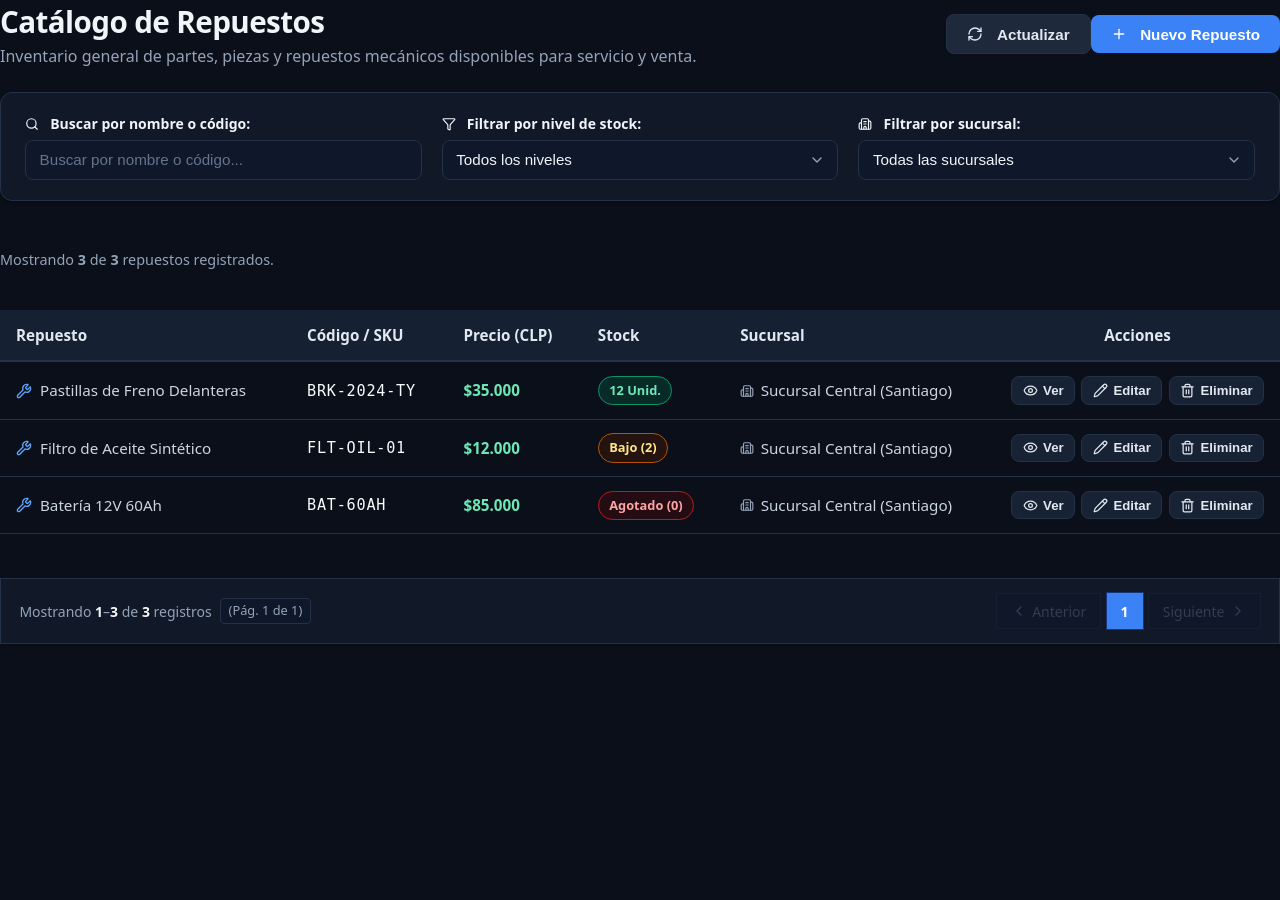
it: Módulo CRUD de Repuestos (RepuestosPage.tsx) › permite a un usuario Admin abrir el modal de edición y actualizar los datos
expect the text "Pastillas de Freno Delanteras" is shown: met, box left=40, top=379, right=246, bottom=402
Click the button with aria-label "editar pastillas de freno delanteras" at (1122,391), box left=1081, top=376, right=1162, bottom=405
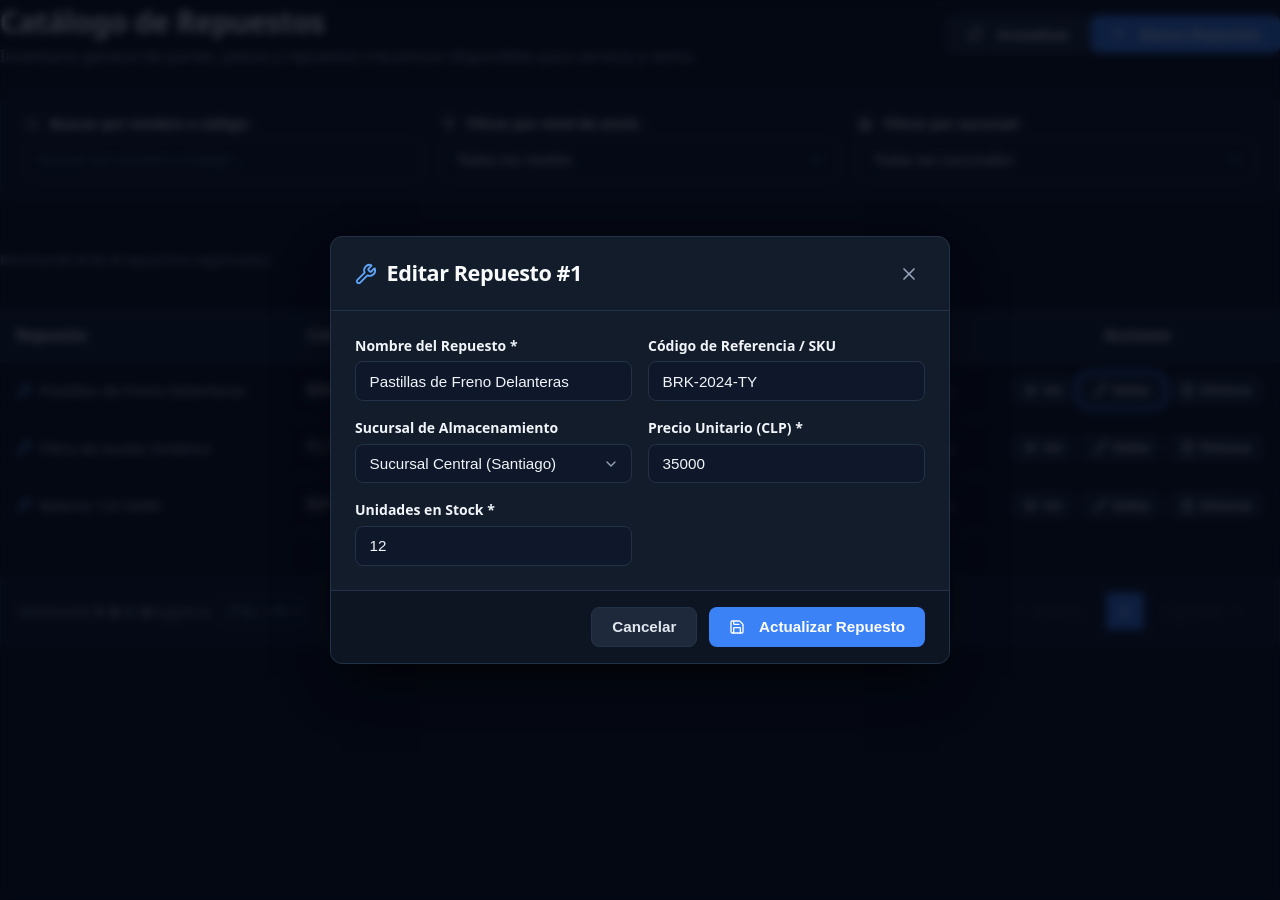
expect the heading "Editar Repuesto #1" is shown: met, box left=387, top=257, right=582, bottom=290
Replace the text in the field labelled "Nombre del Repuesto *" with "Pastillas de Freno Cerámicas" at (494,381), box left=355, top=361, right=632, bottom=401
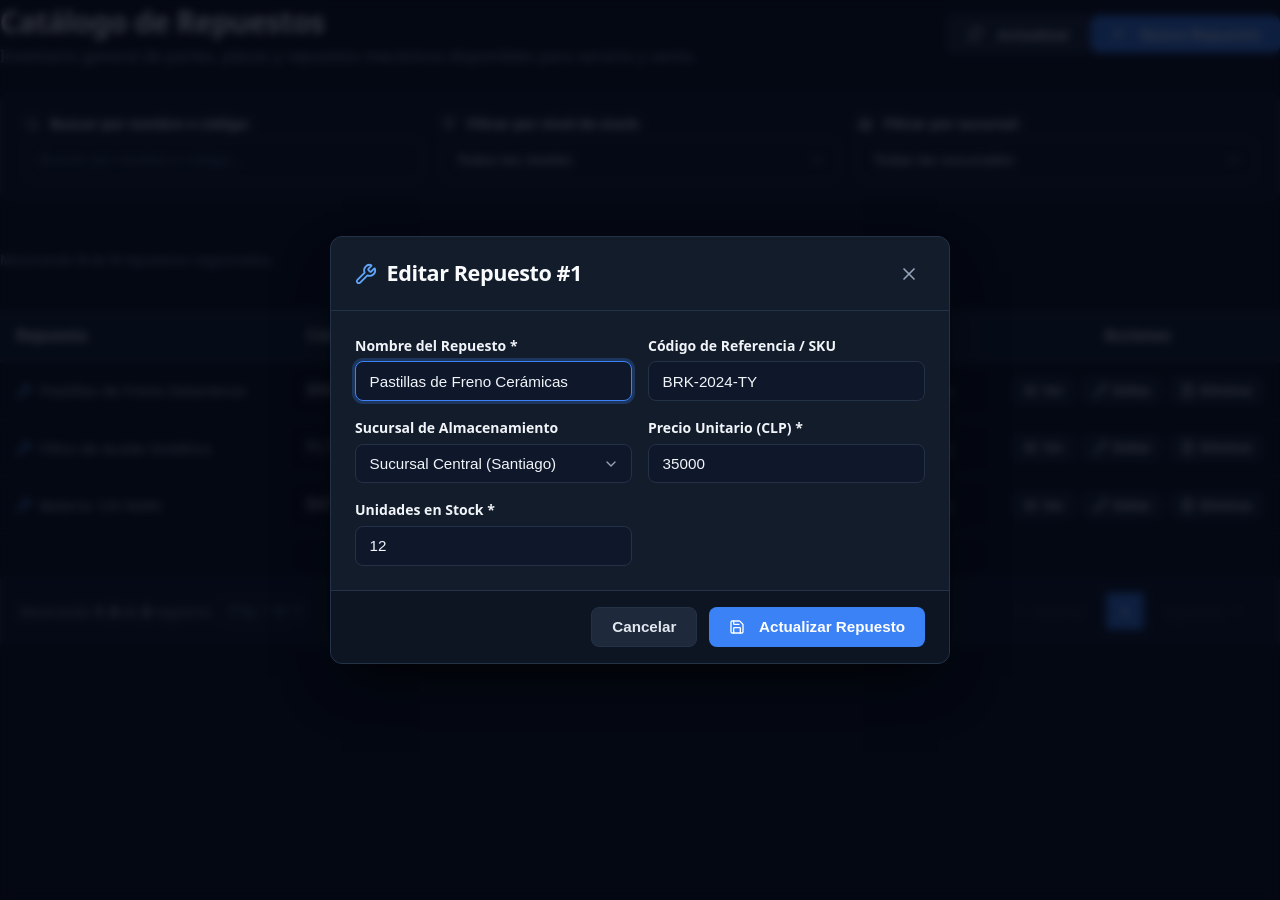
Replace the text in the number field labelled "Precio Unitario (CLP) *" with "45000" at (786,464), box left=648, top=444, right=925, bottom=484
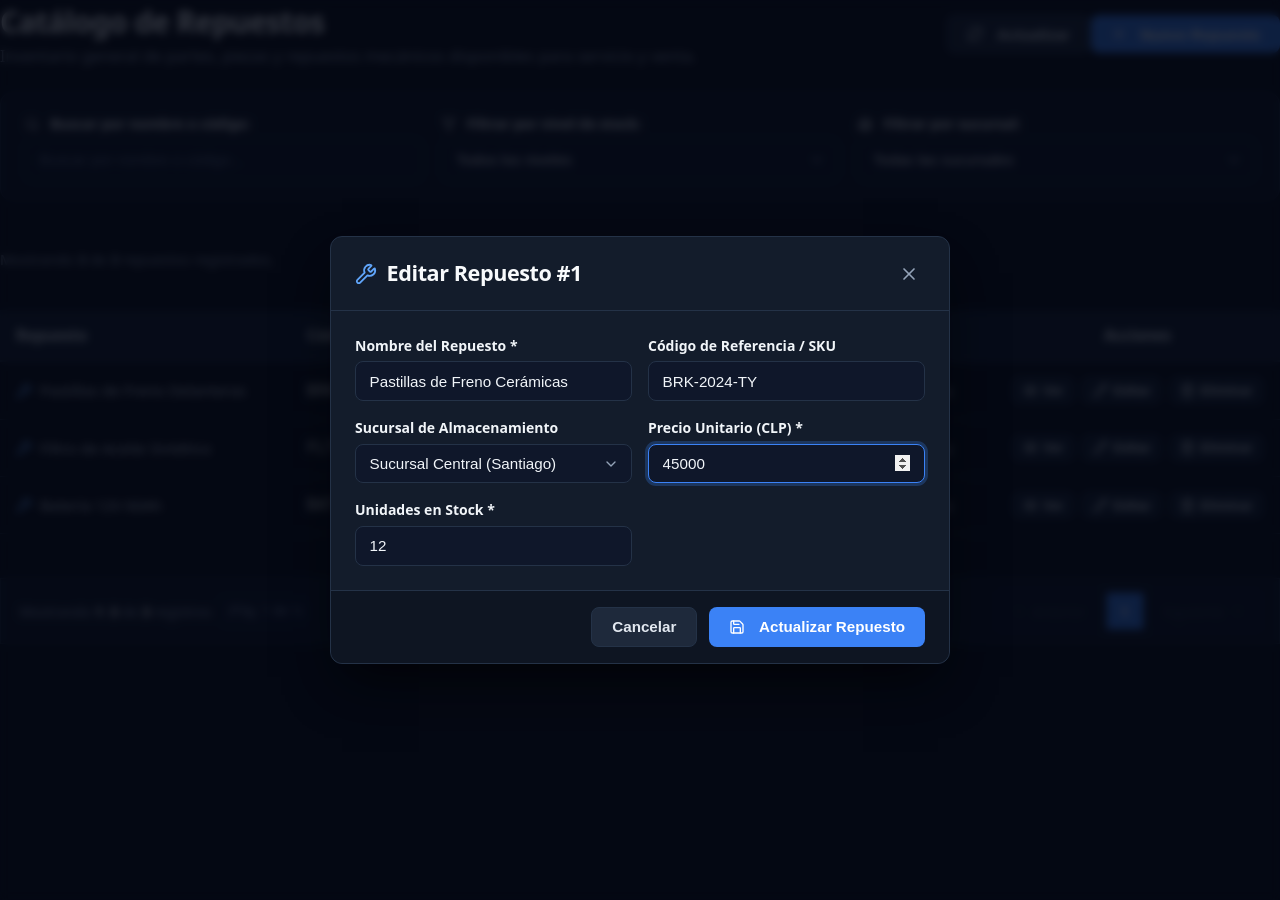
Click the button "Actualizar Repuesto" at (817,627), box left=709, top=607, right=925, bottom=647
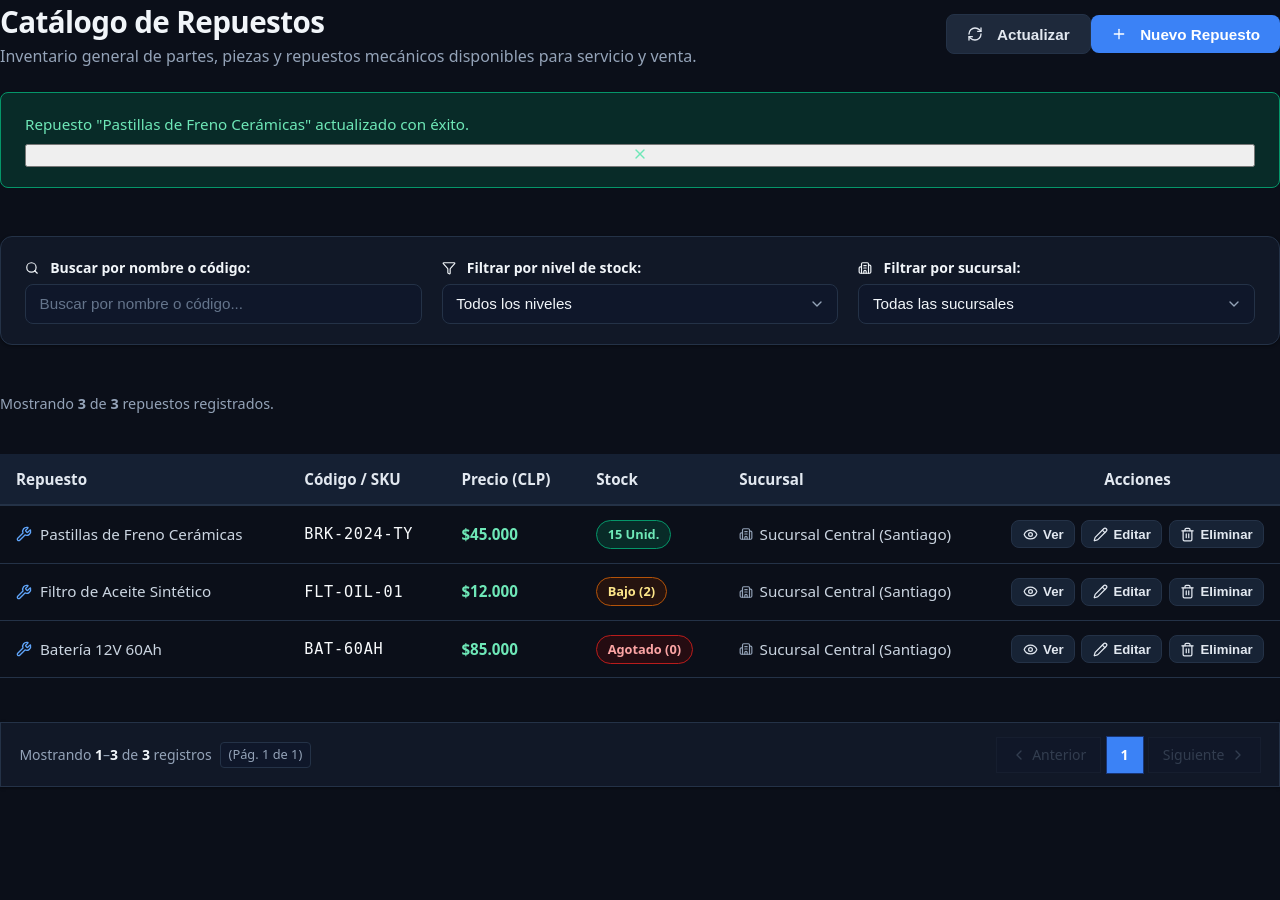
expect the text "actualizado con éxito" is shown: met, box left=25, top=114, right=469, bottom=134
